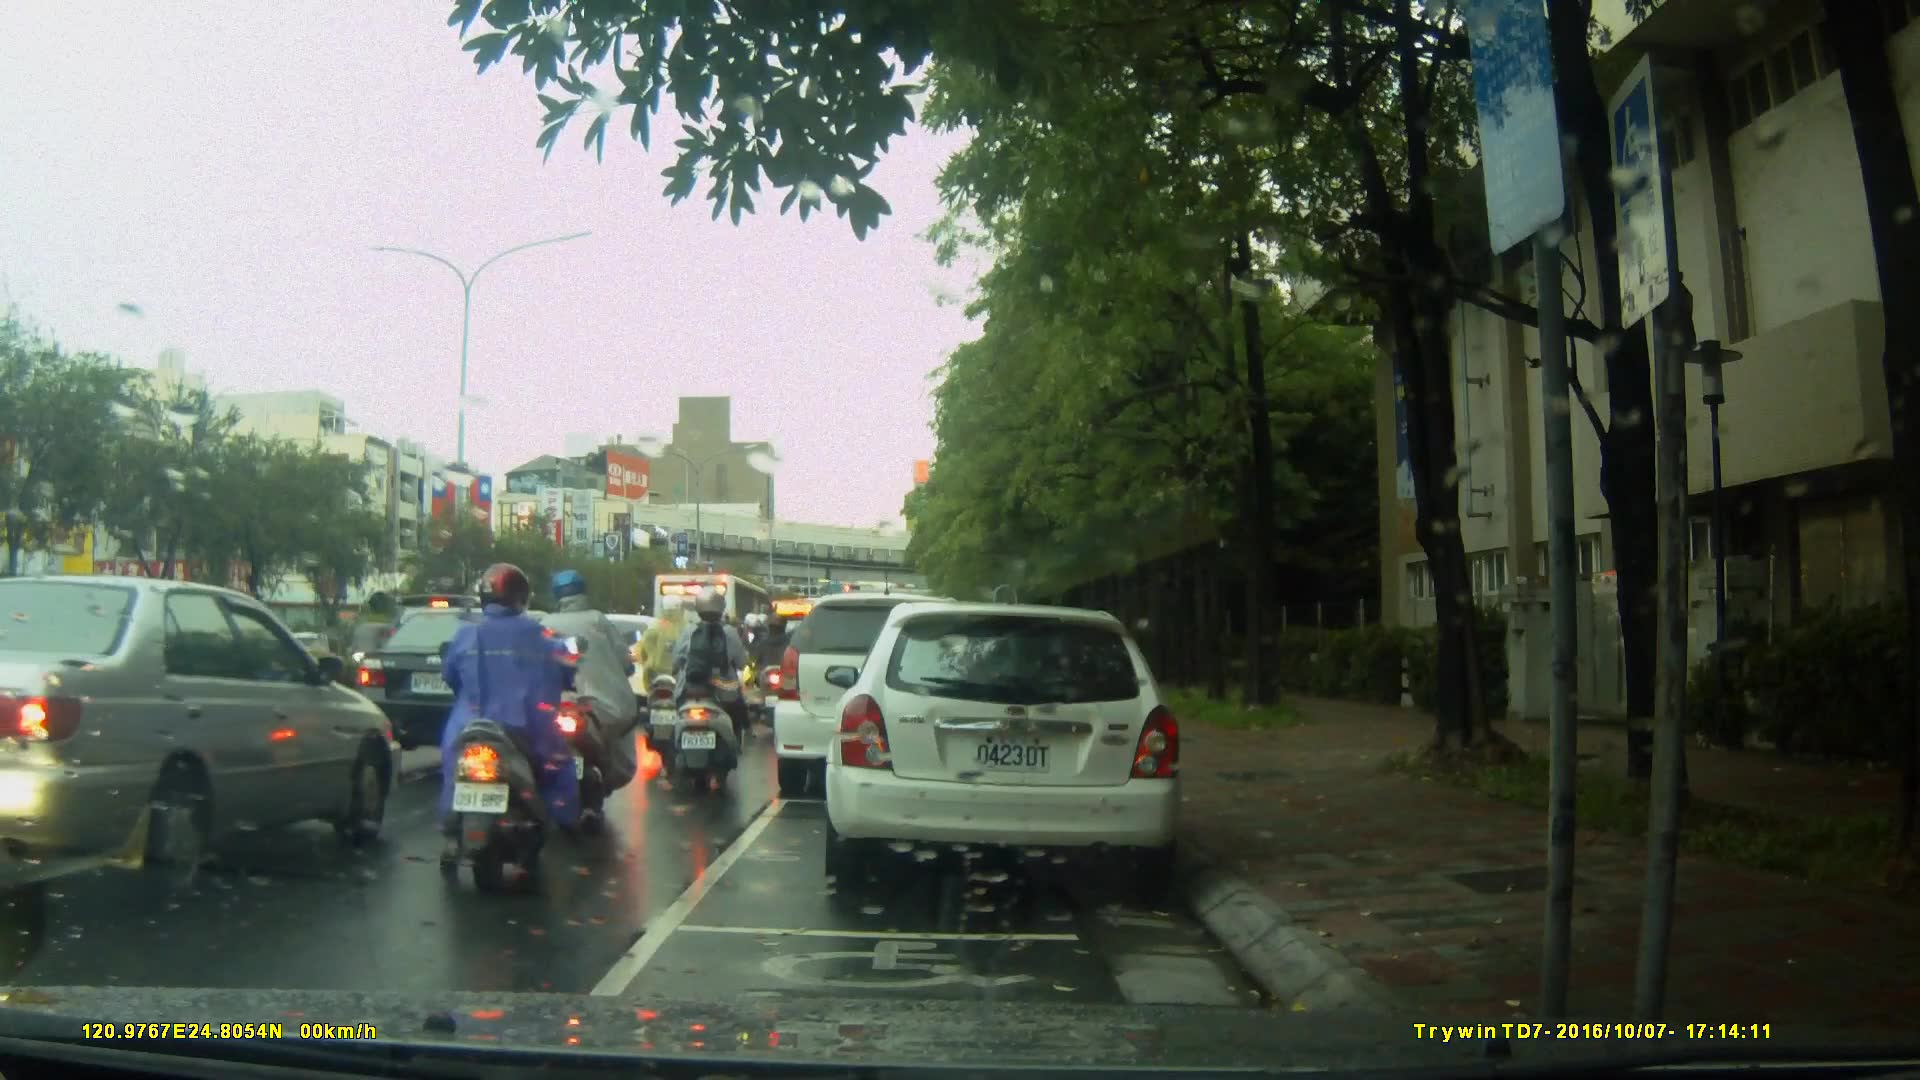rider: (441, 563, 591, 903), (527, 565, 635, 826), (663, 591, 743, 783), (626, 601, 708, 759), (746, 612, 793, 734)
vehicle: (1, 574, 408, 911), (831, 592, 1196, 897), (768, 592, 999, 801), (352, 606, 573, 756), (649, 571, 782, 703), (538, 613, 673, 722)
